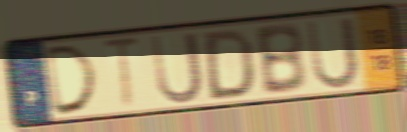B: (251, 21, 309, 98)
D: (44, 41, 102, 118), (203, 26, 256, 103)
T: (99, 34, 143, 113)
U: (304, 14, 362, 92), (148, 29, 206, 107)
